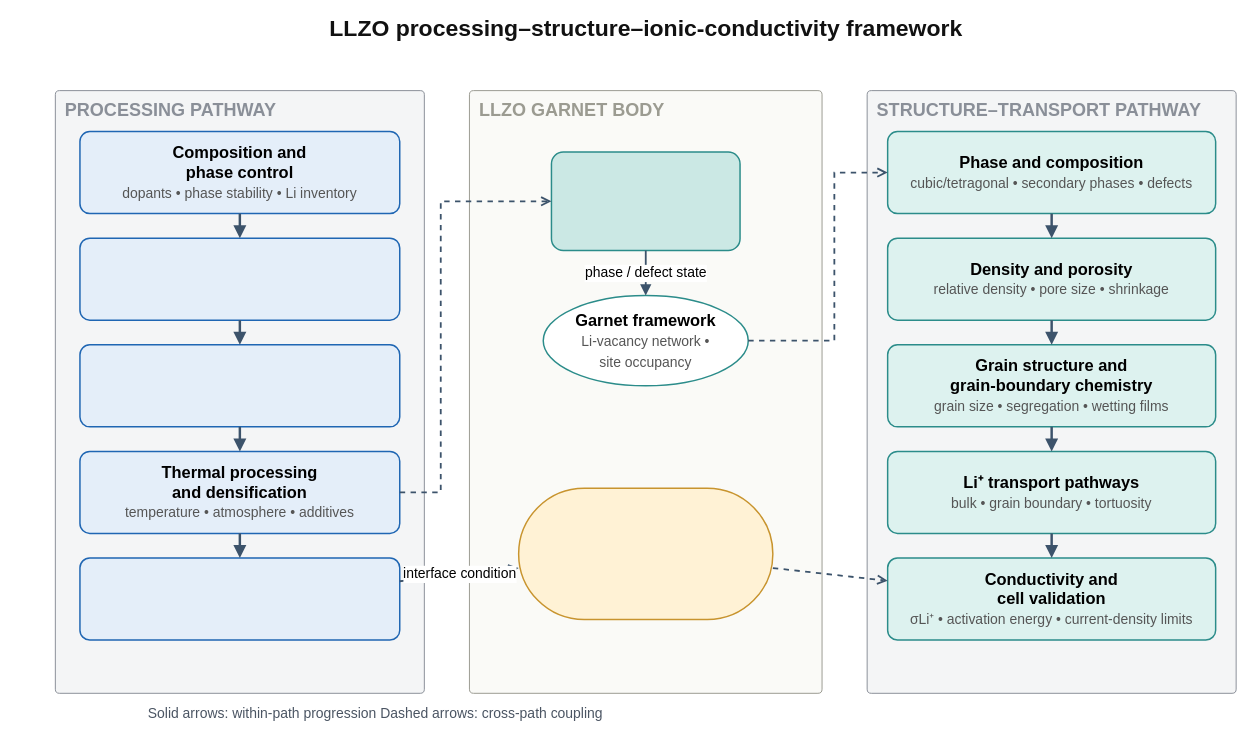
Some shapes in this 1251 by 737 pixel diagram are drawn without their labels. Here are the shapes that lost their labels. From the top down, the centre of each, then its label:
point (645, 201): Processed LLZO body phase purity • relative density
point (239, 279): Powder and precursor synthesis solid-state • sol–gel • co-precipitation
point (239, 385): Forming and green-body quality pressing • tape casting • pore closure
point (645, 553): Process–structure– conductivity view compare with stated conditions
point (239, 598): Surface and interface engineering cleaning • coatings • Li contact
